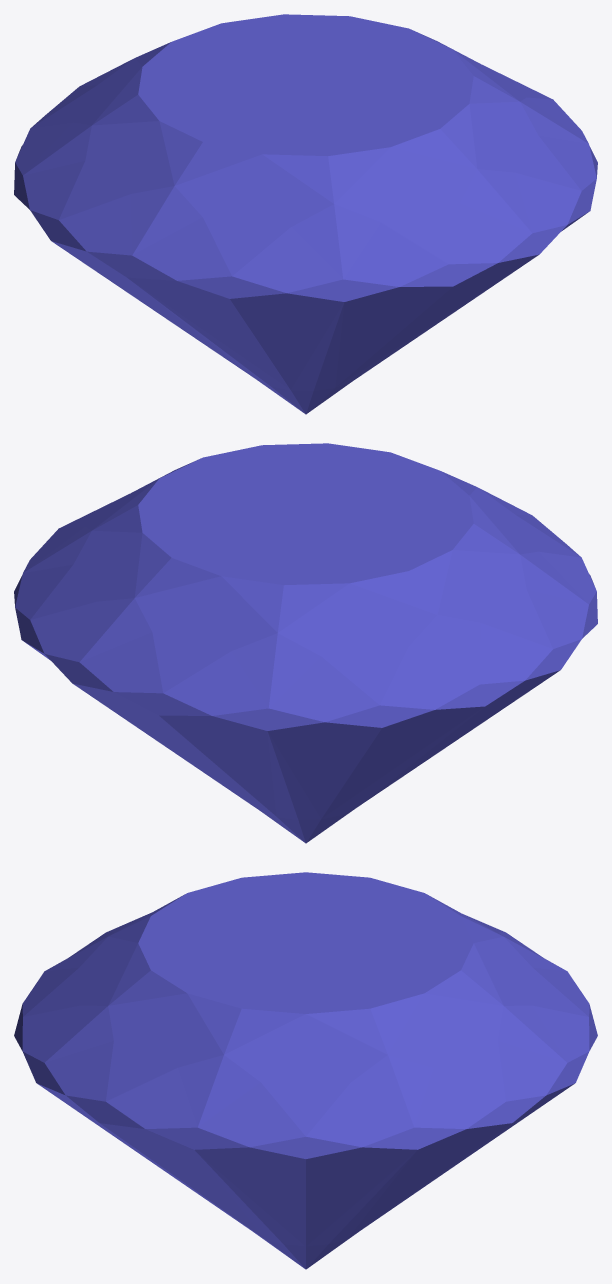
The model's file is blue_diamond.fbx.
3 views of the same model, one above another, from view 1: azimuth 30°, elevation 25°; view 2: azimuth 150°, elevation 25°; view 3: azimuth 270°, elevation 25° (orthographic).
Parts seen in each view (by area): view 1: diamond_blue; view 2: diamond_blue; view 3: diamond_blue.
Part boxes in pixels (x1,y1,x2,y2): diamond_blue: (14, 14, 597, 414); diamond_blue: (14, 443, 597, 843); diamond_blue: (14, 872, 597, 1269).
Bounding box in the file's own units: 20.18 × 12.45 × 20.18.
